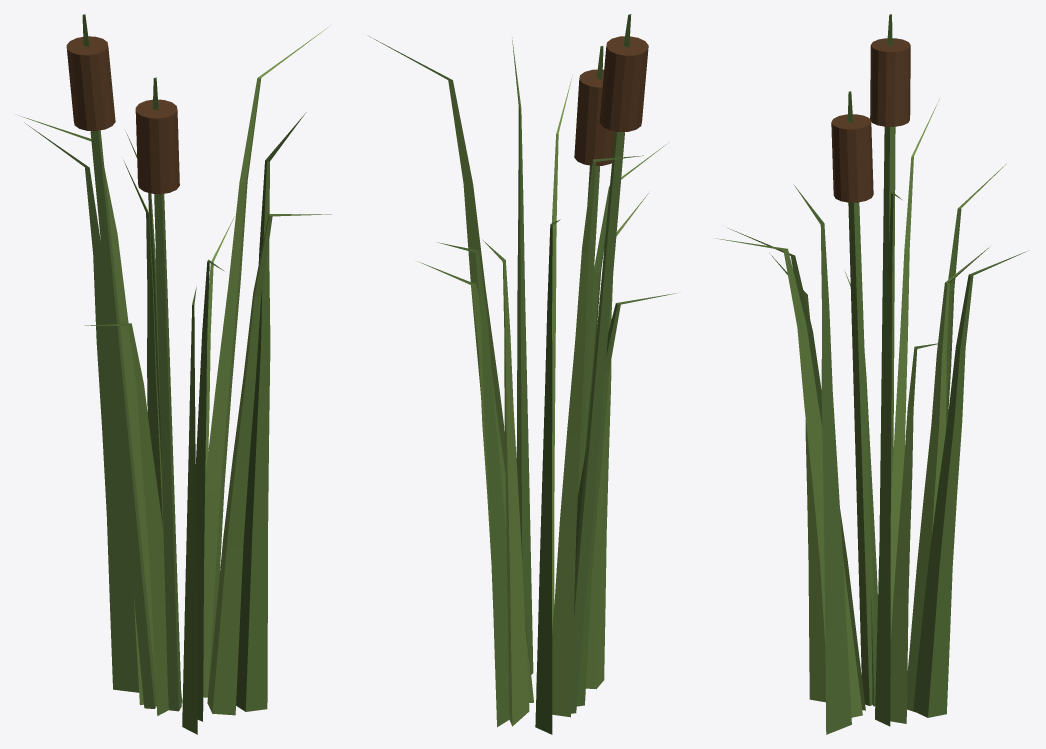
Rendered from reeds-b.glb.
The picture shows the model from 3 angles, left to right: view 1: azimuth 30°, elevation 25°; view 2: azimuth 150°, elevation 25°; view 3: azimuth 270°, elevation 25°; orthographic projection. The views are drawn at different scales.
Parts seen in each view (by area): view 1: Body_Leaves2, Body_Leaves, Body_SeedHeads; view 2: Body_Leaves2, Body_Leaves, Body_SeedHeads; view 3: Body_Leaves2, Body_Leaves, Body_SeedHeads.
Part boxes in pixels (x1=…): Body_Leaves2: x1=25, y1=14, x2=306, y2=721; Body_Leaves: x1=19, y1=25, x2=331, y2=734; Body_SeedHeads: x1=66, y1=36, x2=179, y2=194; Body_Leaves2: x1=437, y1=14, x2=677, y2=734; Body_Leaves: x1=369, y1=36, x2=648, y2=726; Body_SeedHeads: x1=574, y1=36, x2=648, y2=165; Body_Leaves2: x1=728, y1=14, x2=1029, y2=734; Body_Leaves: x1=715, y1=97, x2=989, y2=726; Body_SeedHeads: x1=831, y1=38, x2=910, y2=202.
Size of the model in its own units: 0.8 by 1.8 by 0.8.
